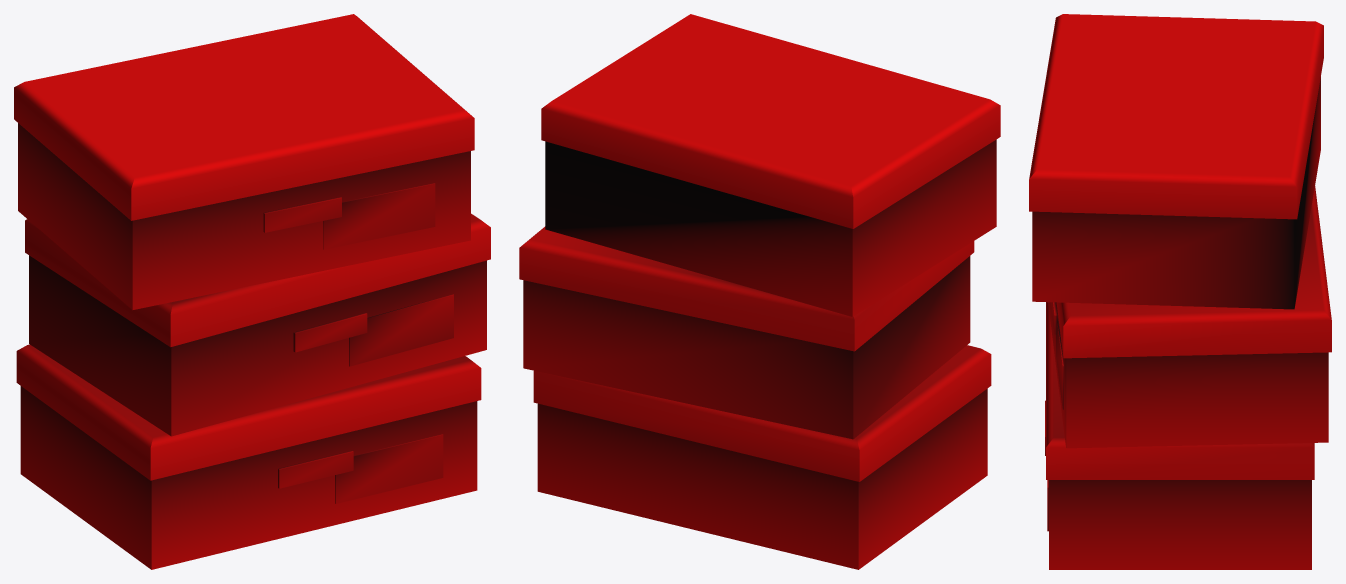
File: CI_Office_ArchiveBoxes.glb
The picture shows the model from 3 angles, left to right: view 1: azimuth 30°, elevation 25°; view 2: azimuth 150°, elevation 25°; view 3: azimuth 270°, elevation 25°; orthographic projection. The views are drawn at different scales.
Visible parts, largest first — view 1: CI_Office_ArchiveBoxes; view 2: CI_Office_ArchiveBoxes; view 3: CI_Office_ArchiveBoxes.
Part boxes in pixels (box(x1,y1,x2,y2)): CI_Office_ArchiveBoxes: box(14, 14, 490, 569); CI_Office_ArchiveBoxes: box(519, 14, 1000, 569); CI_Office_ArchiveBoxes: box(1029, 14, 1331, 569).
Size of the model in its own units: 0.4393 by 0.45 by 0.3154.
